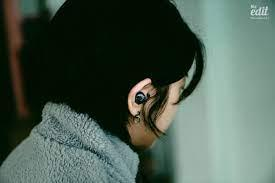earphone: (135, 91, 148, 104)
